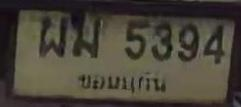number: (33, 3, 229, 68)
province: (76, 71, 171, 96)
